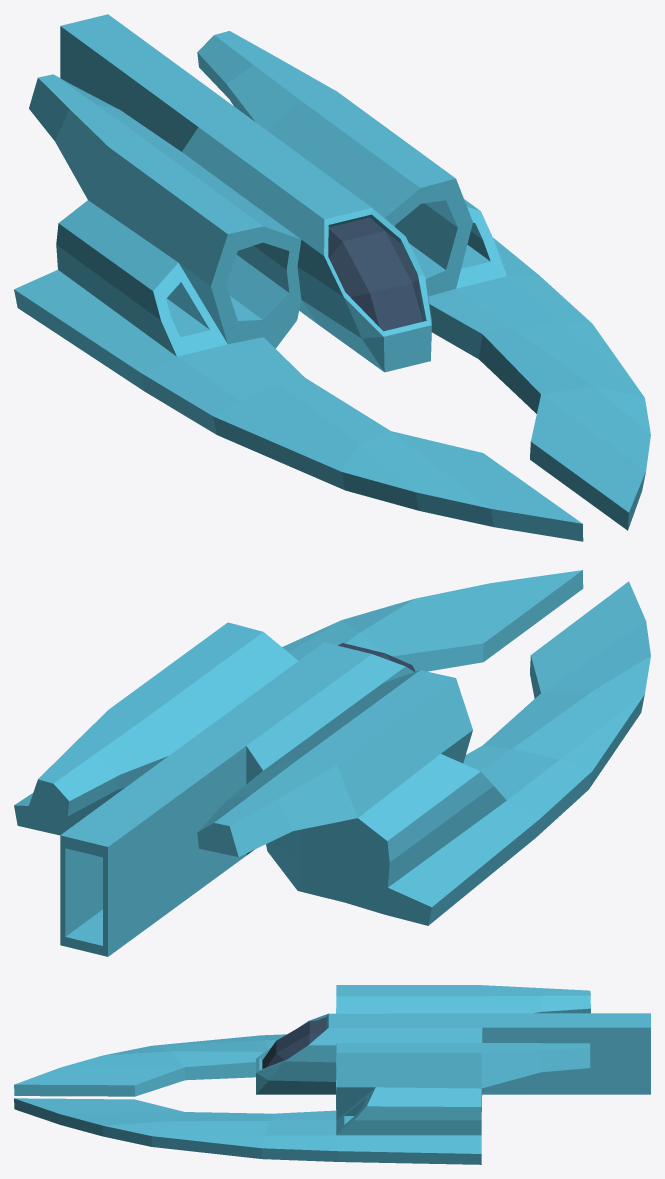
File: ion.glb
3 views of the same model, one above another, from view 1: azimuth 30°, elevation 25°; view 2: azimuth 150°, elevation 25°; view 3: azimuth 270°, elevation 25° (orthographic). The views are drawn at different scales.
Visible parts, largest first — view 1: Spaceship; view 2: Spaceship; view 3: Spaceship.
Boxes of the visible parts, x1=… form: Spaceship: x1=14, y1=14, x2=650, y2=541; Spaceship: x1=14, y1=570, x2=650, y2=956; Spaceship: x1=14, y1=985, x2=650, y2=1164.
Bounding box in the file's own units: 3.37 × 1.07 × 7.28.
